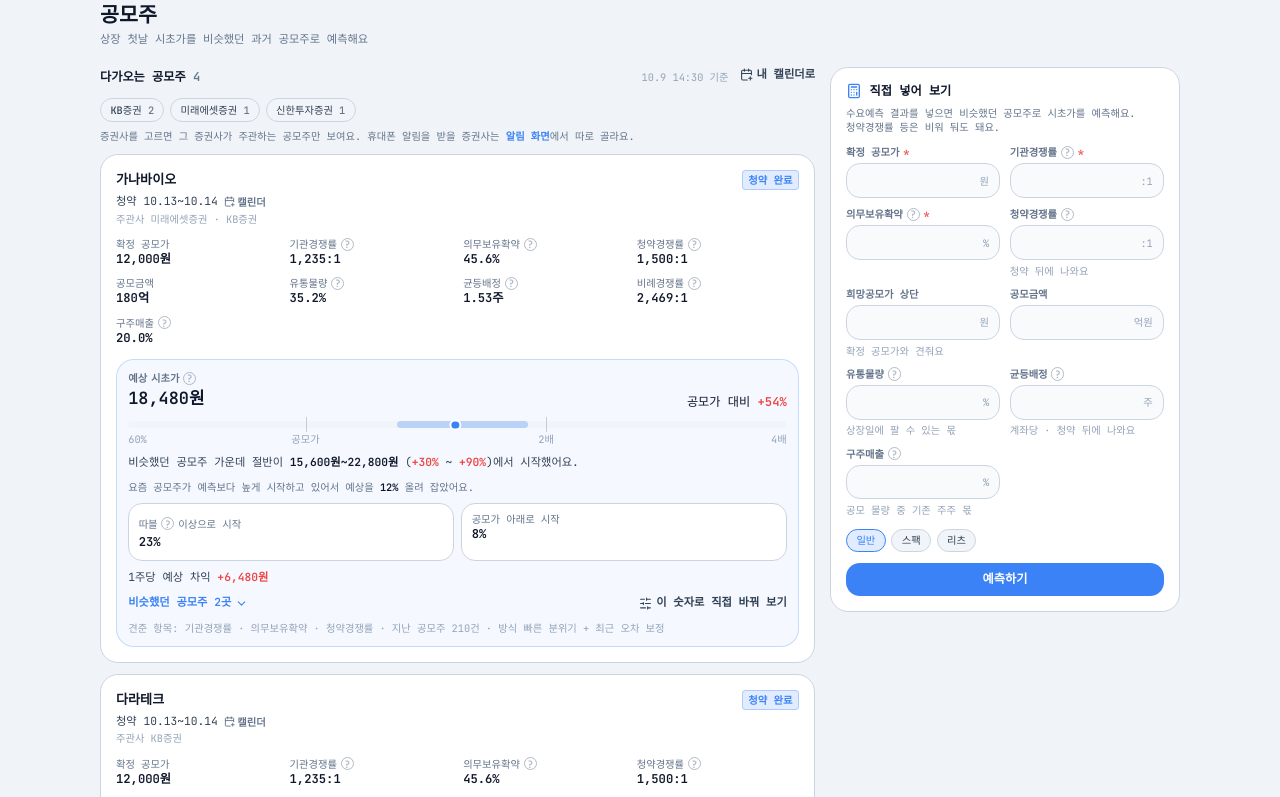
Test case: 공모주 — 증권사로 거르기 › 캘린더 구독은 고른 증권사의 공모주만(기본) — 화면에서 거른 그대로
Click the button with aria-label "KB증권 2곳".
click(132, 110)  # box [100,98,164,122]
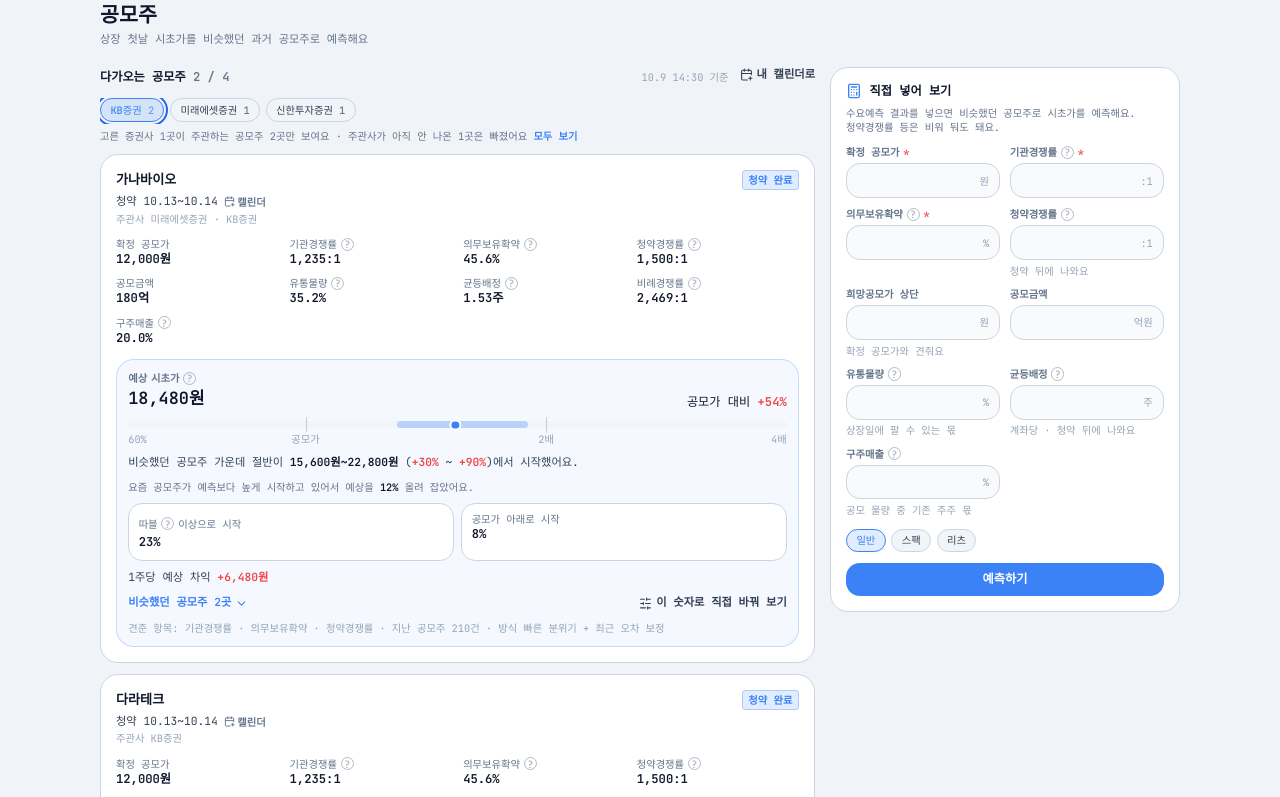
Click the button "내 캘린더로".
click(777, 75)  # box [740,67,815,82]
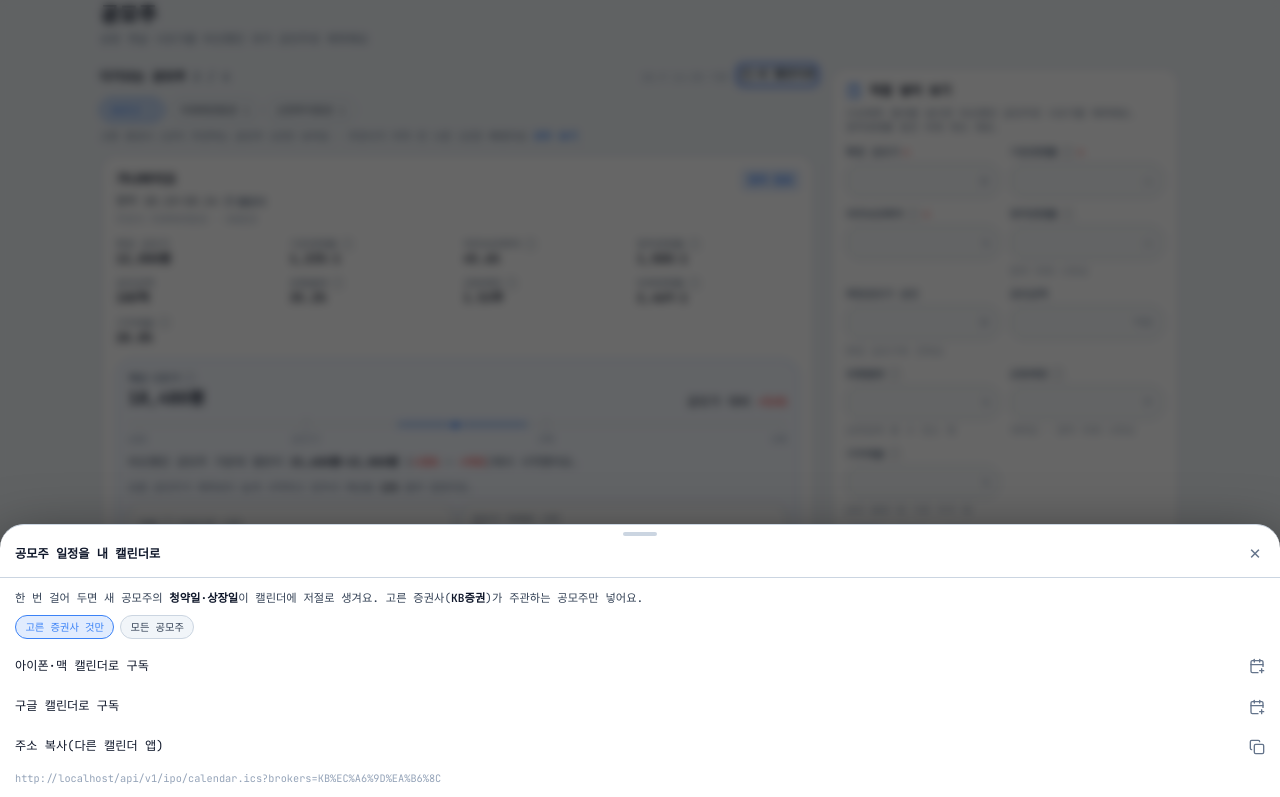
Expected: the text "KB증권" is shown, [451,591,485,605]
